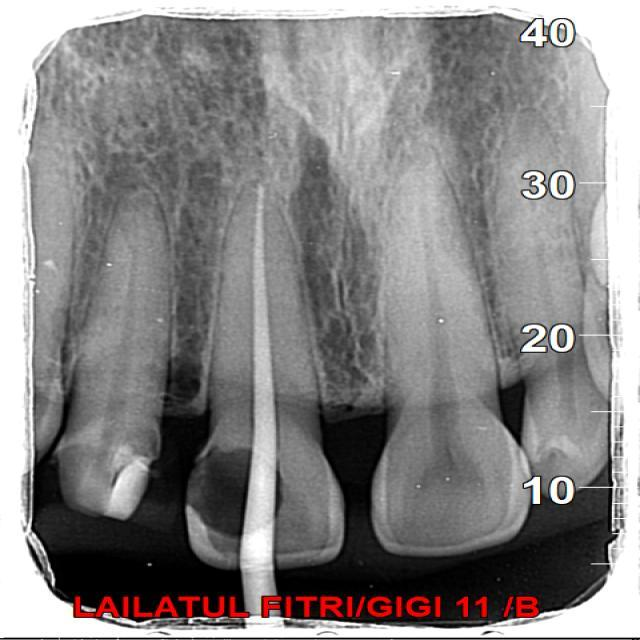individual-tooth-8tto: (372, 153, 532, 555), (187, 184, 343, 564), (60, 184, 170, 524)
